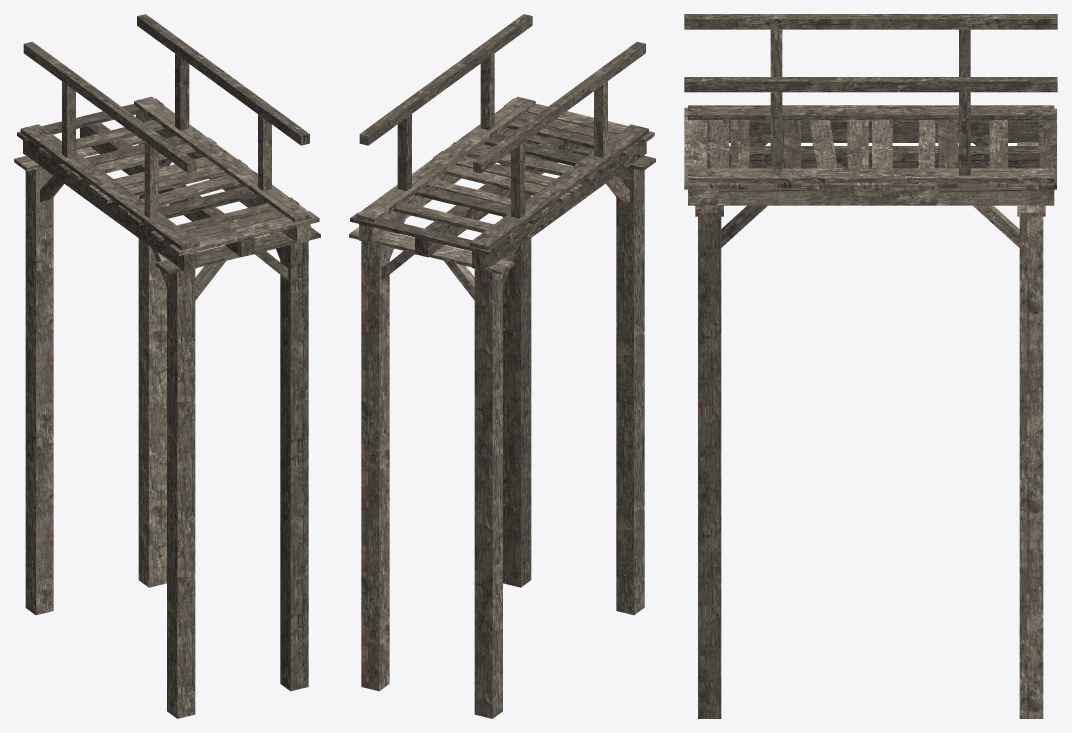
The model's file is bridge.fbx.
3 renders of one model, left to right at view 1: azimuth 30°, elevation 25°; view 2: azimuth 150°, elevation 25°; view 3: azimuth 270°, elevation 25°, orthographic. The views are drawn at different scales.
Parts seen in each view (by area): view 1: Wooden_bridge-material.022; view 2: Wooden_bridge-material.022; view 3: Wooden_bridge-material.022.
Boxes of the visible parts, box(x1,y1,x2,y2) form: Wooden_bridge-material.022: box(14, 14, 320, 718); Wooden_bridge-material.022: box(349, 14, 655, 718); Wooden_bridge-material.022: box(684, 14, 1057, 718).
Bounding box in the file's own units: 126 × 441 × 235.
1 material, 1 textured.
